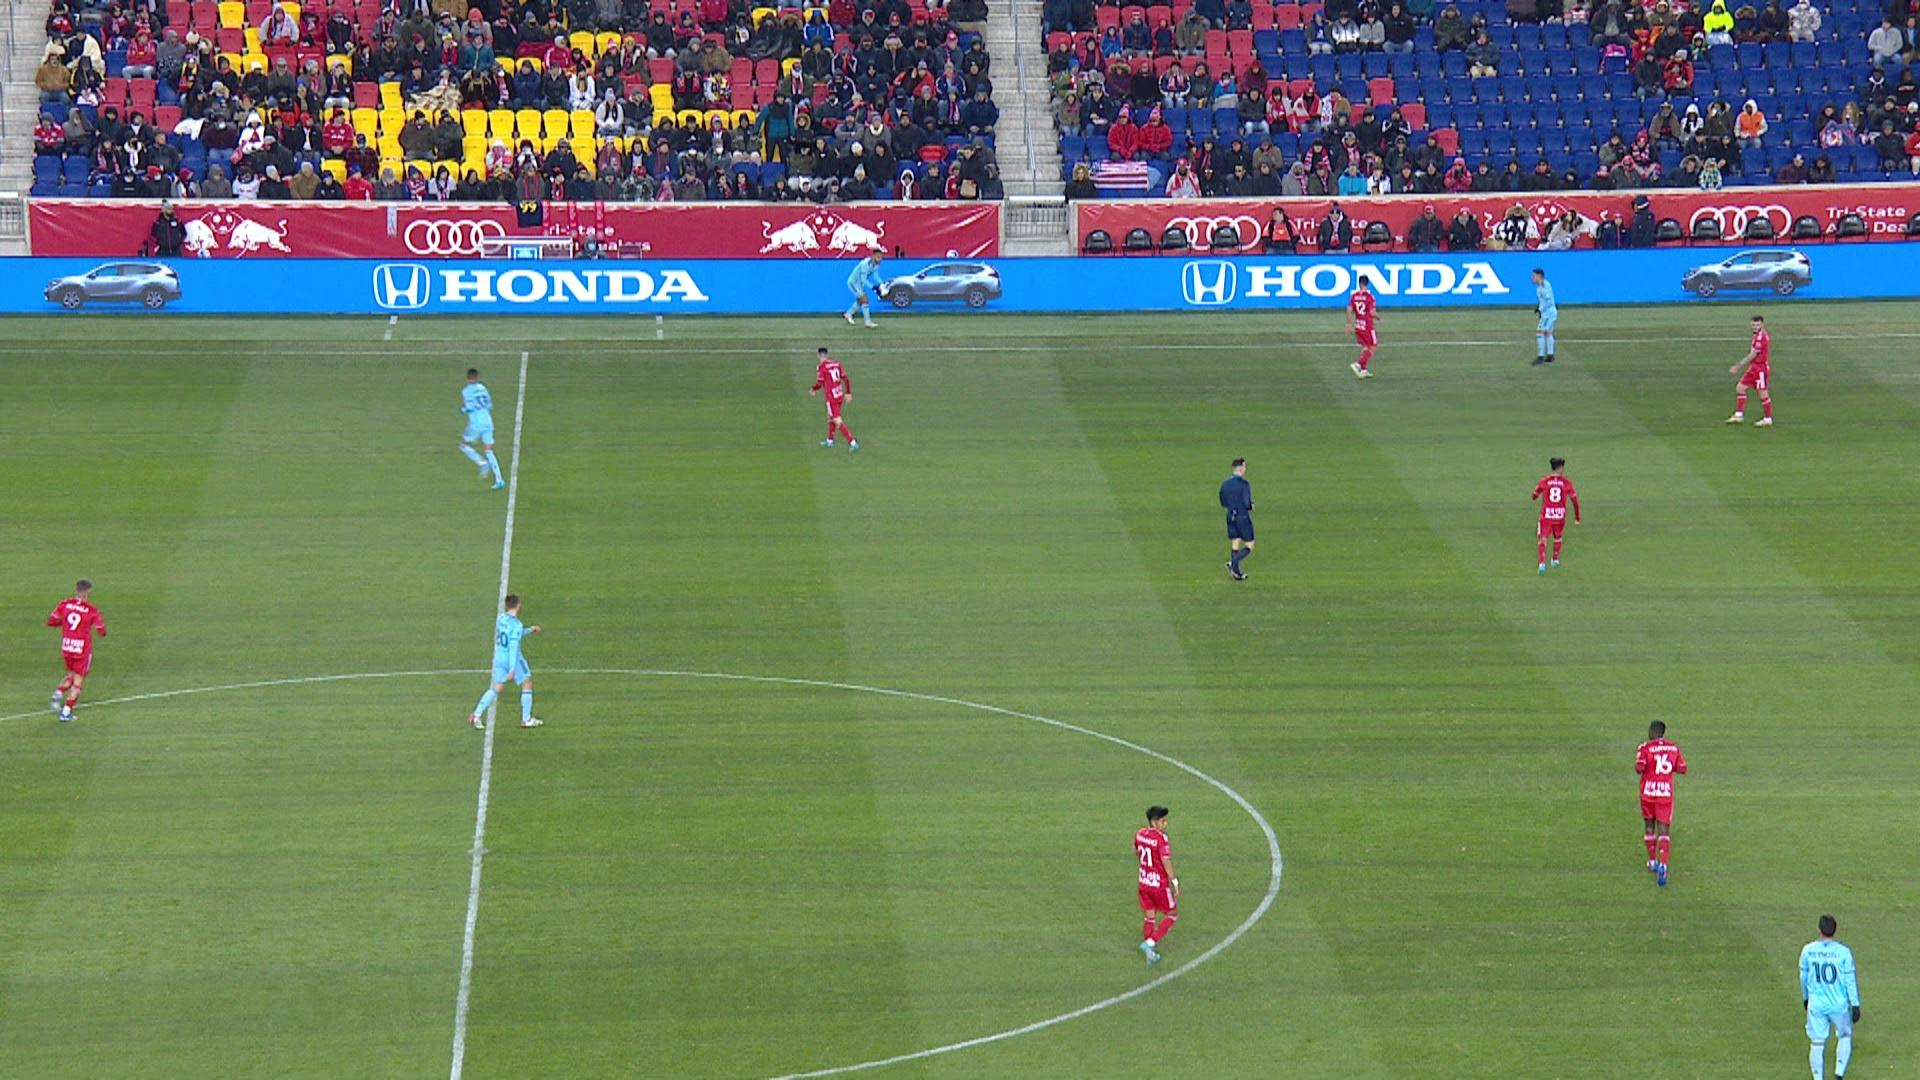football: (881, 285, 887, 297)
